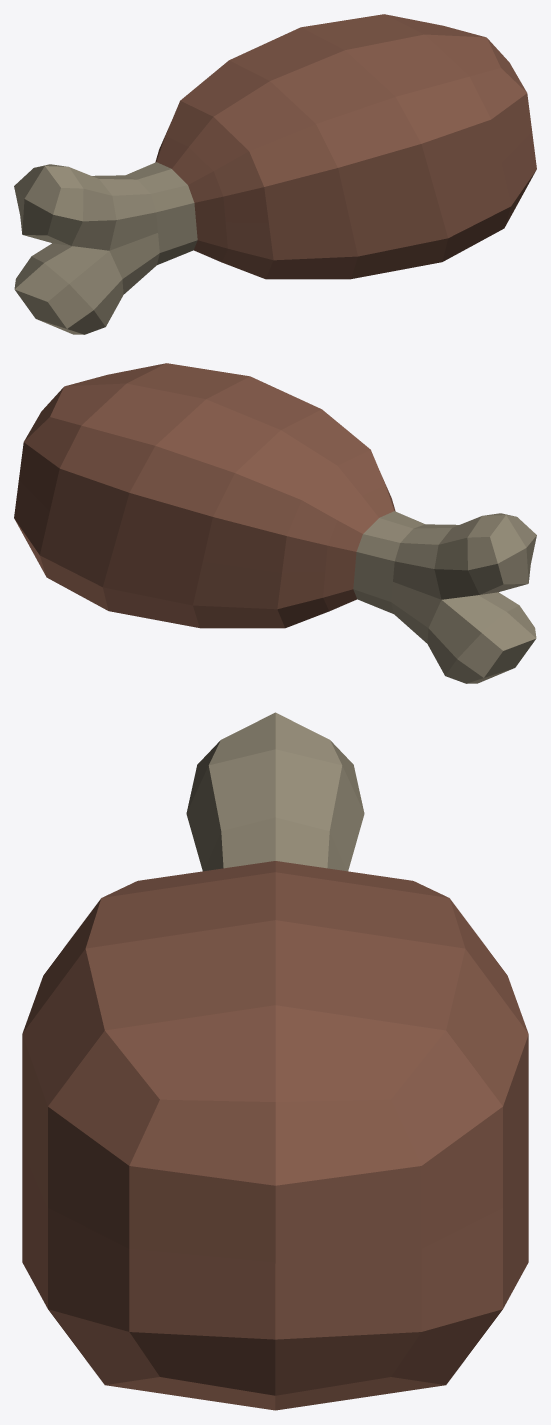
File: Level2_chickenleg.fbx
3 views of the same model, one above another, from view 1: azimuth 30°, elevation 25°; view 2: azimuth 150°, elevation 25°; view 3: azimuth 270°, elevation 25° (orthographic). The views are drawn at different scales.
Parts seen in each view (by area): view 1: ChickenLeg; view 2: ChickenLeg; view 3: ChickenLeg.
Boxes of the visible parts, x1,y1,x2,y2 form: ChickenLeg: (14, 14, 536, 334); ChickenLeg: (14, 363, 536, 683); ChickenLeg: (22, 712, 528, 1410).
Size of the model in its own units: 140 by 58.15 by 61.19.
